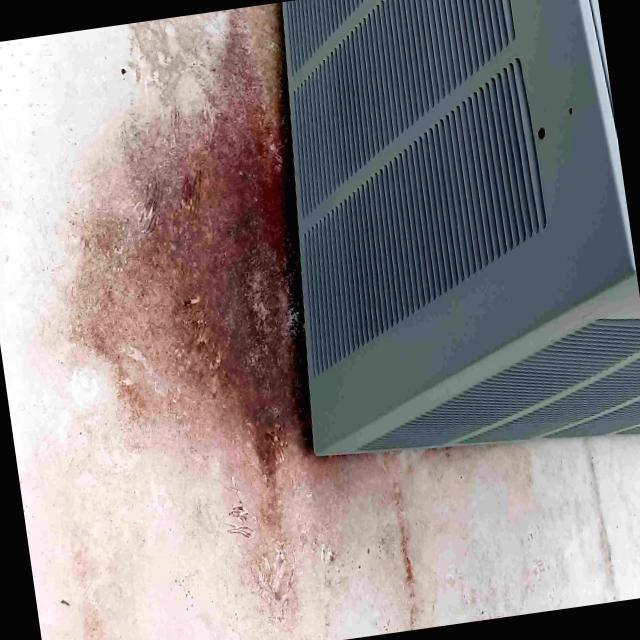SPLIT-SYSTEM: (249, 0, 640, 507)
